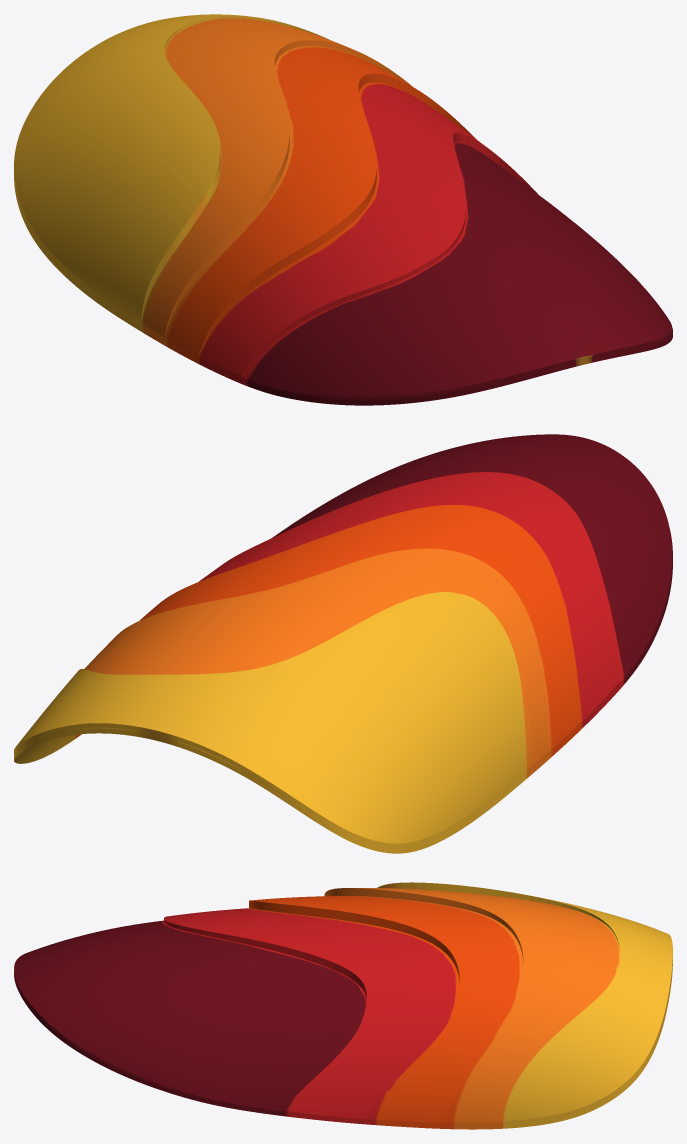
Rendered from dmz.obj.
3 views of the same model, one above another, from view 1: azimuth 30°, elevation 25°; view 2: azimuth 150°, elevation 25°; view 3: azimuth 270°, elevation 25° (orthographic). The views are drawn at different scales.
Bounding box in the file's own units: 12 × 5.82 × 23.25.
Materials: 1 (1 with a texture image).
